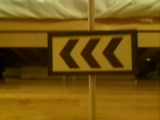left: (48, 33, 136, 74)
